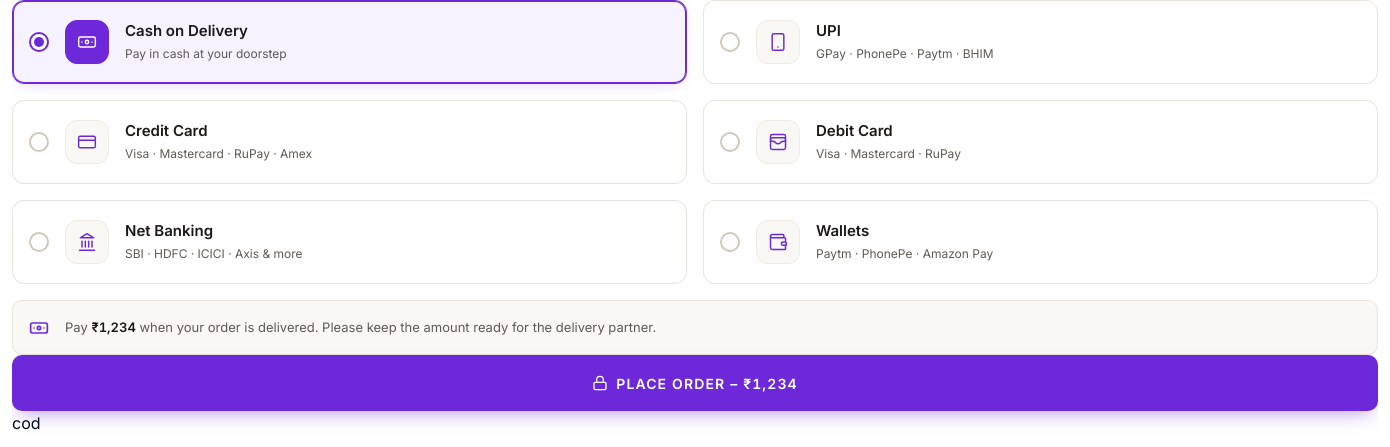
Test: Payment method cards › shows the cash-on-delivery detail only while COD is selected
The width and height of the screenshot is (1390, 447).
Expected: the text "when your order is delivered" is shown, x1=136 y1=319 x2=656 y2=335
Click the radio button labelled "UPI GPay · PhonePe · Paytm · BHIM": (778, 42) x1=703 y1=0 x2=1378 y2=84
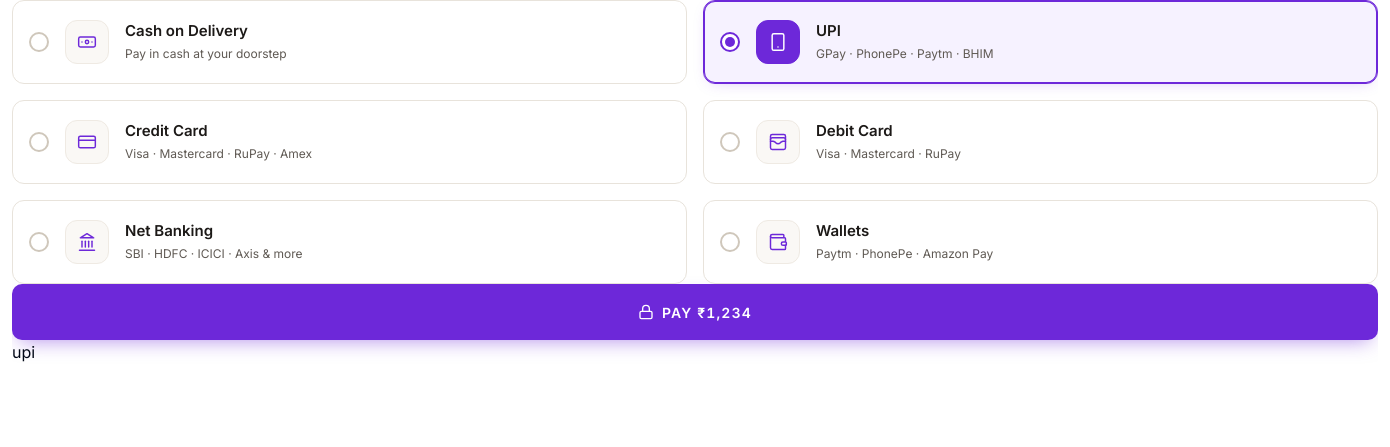
Expected: the text "when your order is delivered" is gone
